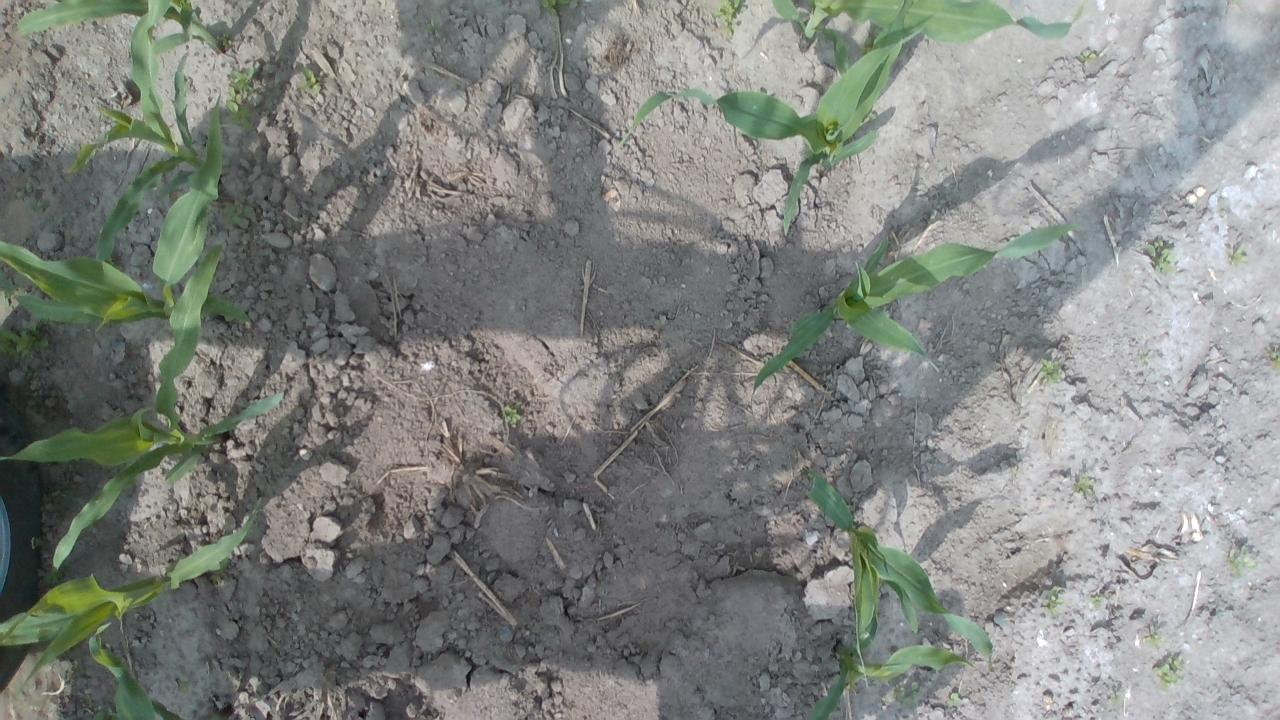Maize: (0, 235, 286, 562), (612, 1, 926, 233), (0, 494, 266, 720), (0, 94, 250, 330), (754, 219, 1080, 390), (56, 0, 206, 269), (810, 471, 996, 686), (771, 0, 1090, 82), (816, 644, 978, 720), (16, 0, 222, 56)
Weeds: (0, 316, 49, 360), (226, 86, 258, 132), (1152, 652, 1184, 692), (714, 0, 746, 37), (1146, 239, 1176, 274), (1228, 545, 1258, 577), (222, 200, 254, 226), (1040, 586, 1066, 618), (0, 262, 17, 310), (859, 24, 884, 55), (227, 67, 254, 94), (1140, 625, 1169, 650), (298, 66, 322, 95), (1040, 358, 1064, 382), (1226, 244, 1251, 266), (539, 0, 578, 14), (1072, 473, 1094, 496), (503, 400, 523, 424), (893, 678, 906, 708), (908, 682, 921, 710), (1076, 47, 1097, 63), (178, 674, 192, 694), (1269, 349, 1280, 371), (948, 692, 962, 707), (1090, 595, 1104, 609), (1142, 348, 1152, 364), (1108, 696, 1123, 706), (426, 18, 437, 31), (868, 110, 878, 124), (34, 200, 50, 208)
